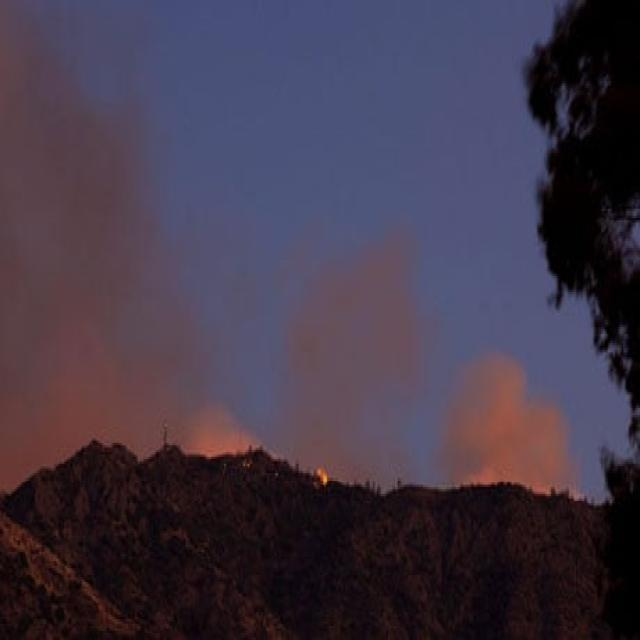Smoke: (9, 48, 216, 421), (278, 230, 430, 470)
